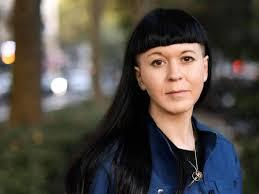Persons: (120, 5, 216, 124)
